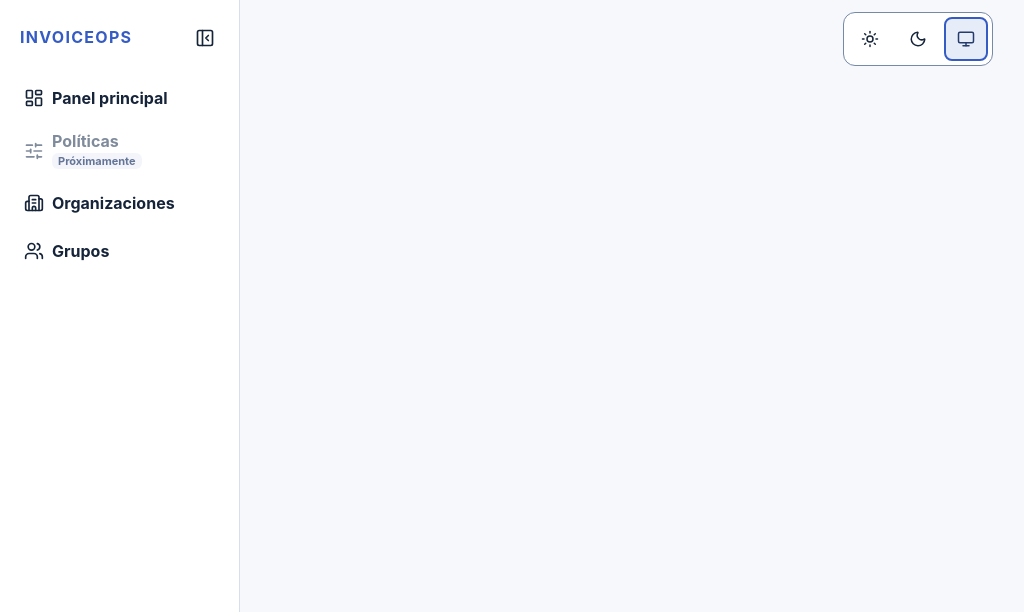
Test: APP12 S7 administration › exposes people management on the organization screens for platform=false role=ADMIN
Click the link "Organizaciones": (99, 204) 24,194 -> 175,214
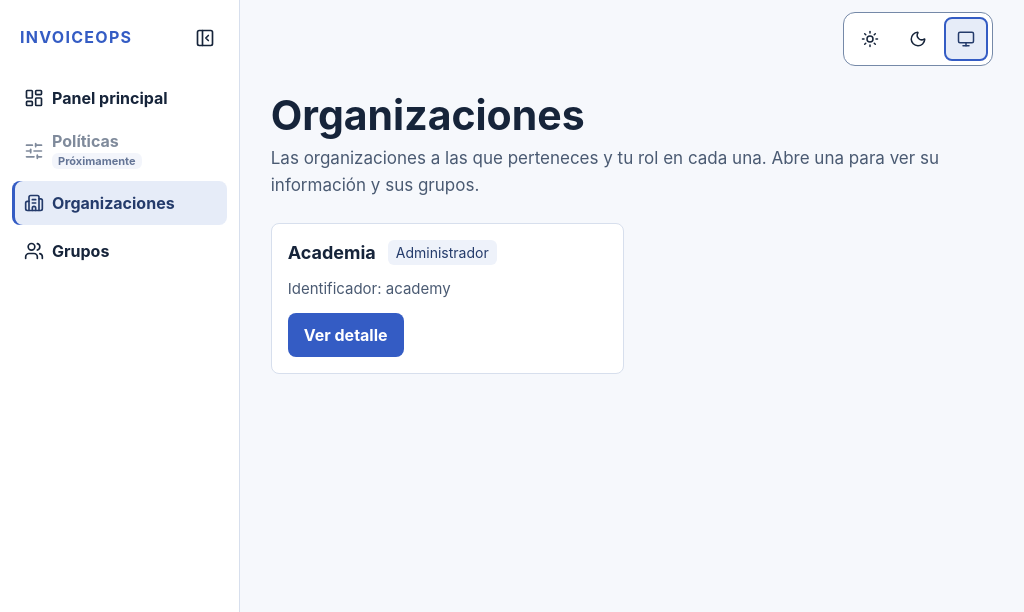
Click the link with aria-label "Ver detalle de Academia": (346, 335) 288,313 -> 404,357
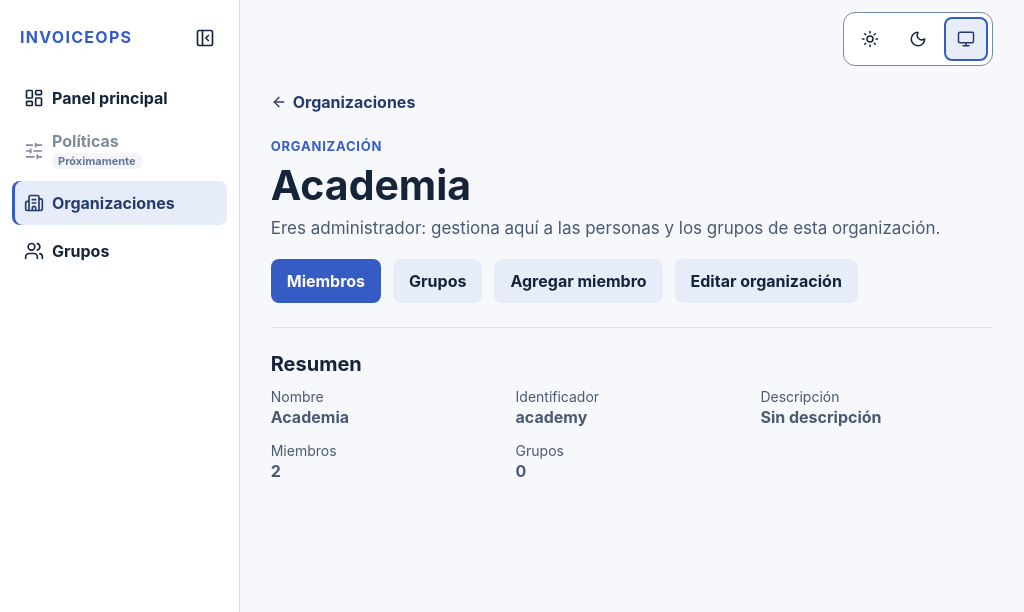
expect the heading "Academia" is shown: met, box 271,160 -> 471,210
expect the link "Miembros" is shown: met
expect the link "Agregar miembro" is shown: met, box 494,259 -> 662,303
Click the link "Miembros": (326, 281) 271,259 -> 381,303
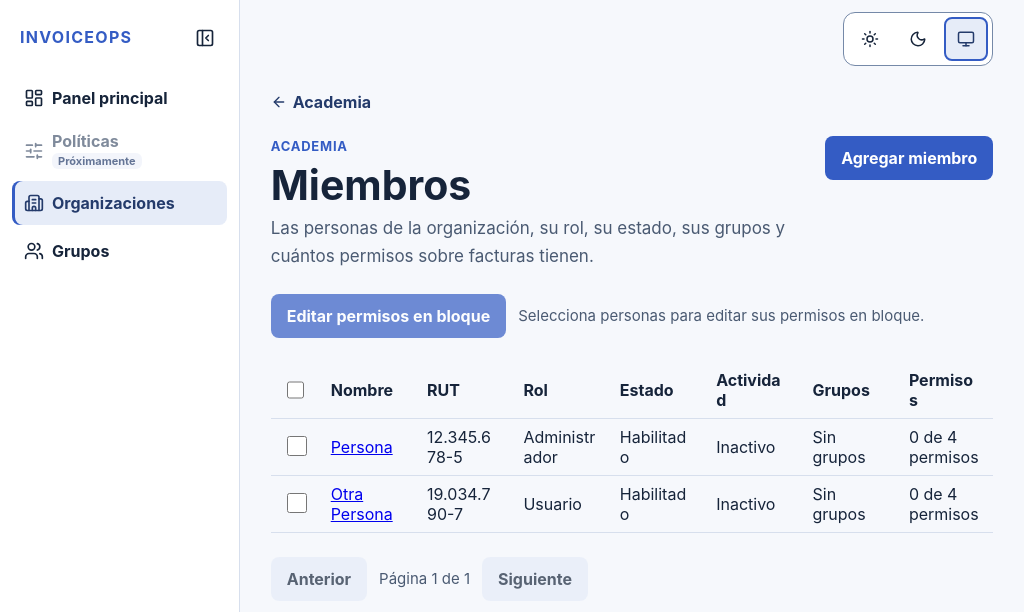
expect the link "Otra Persona" is shown: met, box 331,484 -> 393,524
Click the link "Agregar miembro": (909, 158) 825,136 -> 993,180
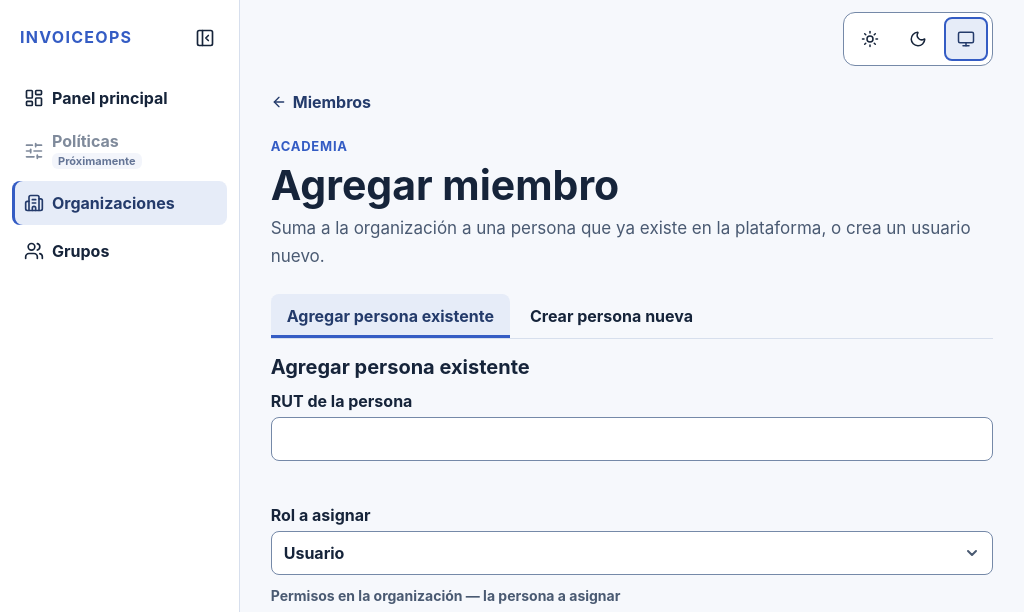
expect the field labelled "RUT de la persona" is shown: met, box 271,417 -> 993,461
expect the heading "Agregar miembro" is shown: met, box 271,160 -> 619,210
Click the tab "Crear persona nueva": (611, 316) 514,294 -> 709,338
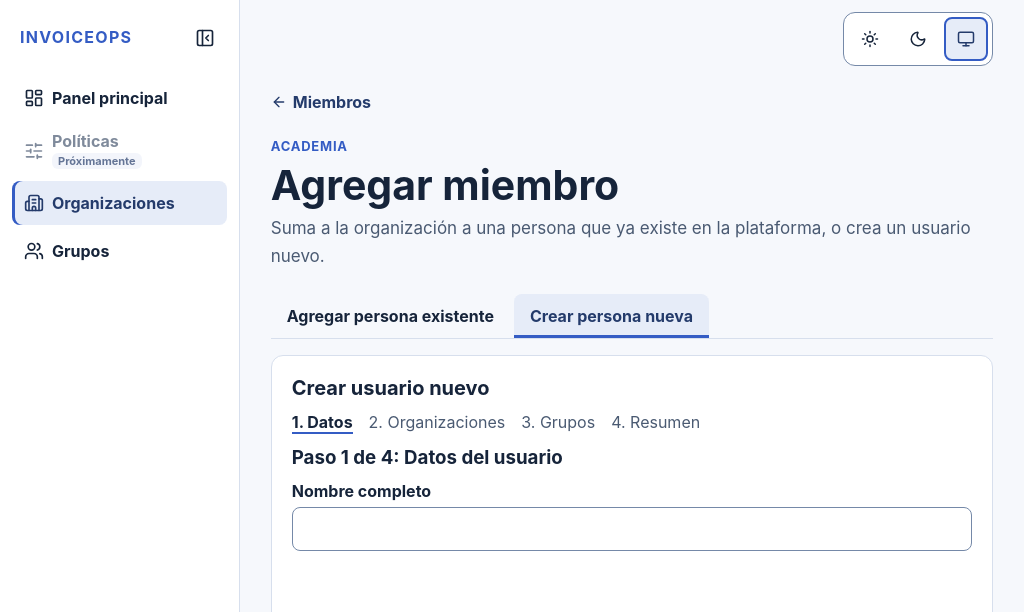
expect the heading "Crear usuario nuevo" is shown: met, box 292,376 -> 490,400
